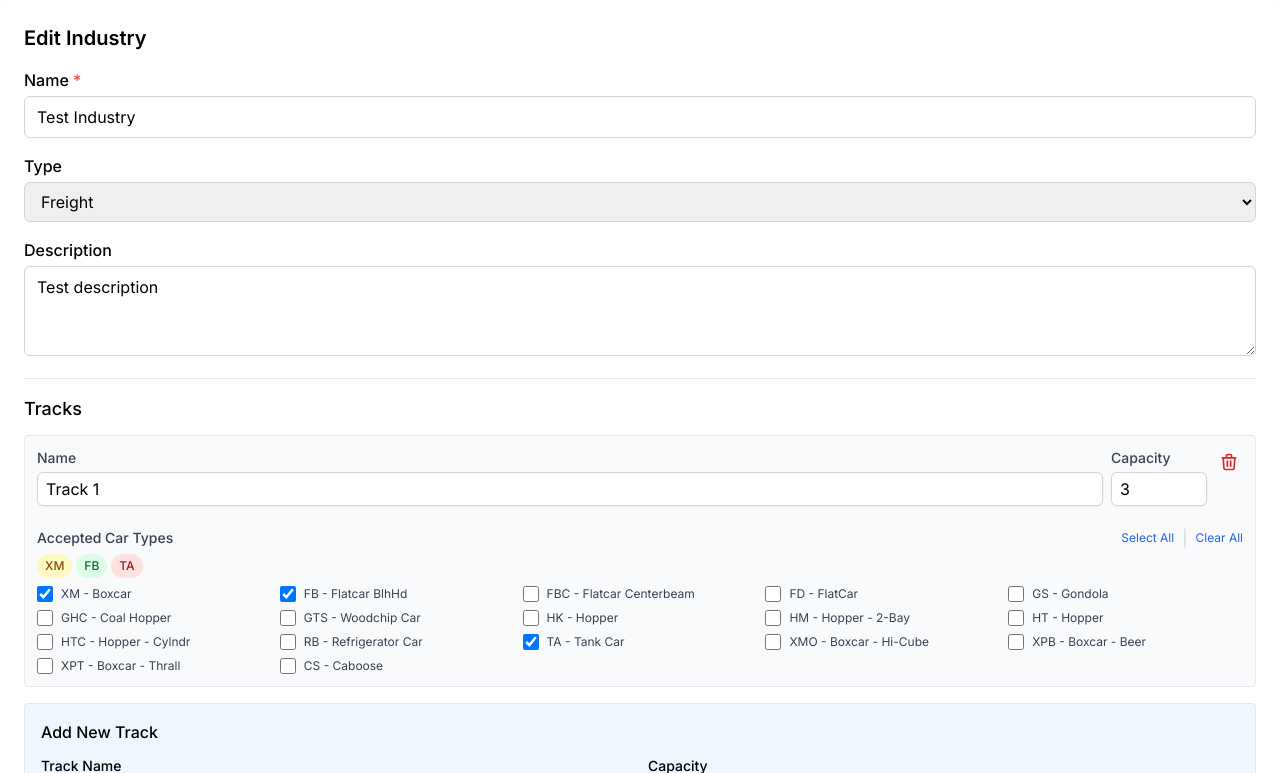
Scenario: EditIndustryForm › allows "Select All" and "Clear All" for car types
# Click "Clear All" to clear car types
Step 1. Click the button with test id "clear-all-0" → click(1219, 538), box [1196,526,1243,550]
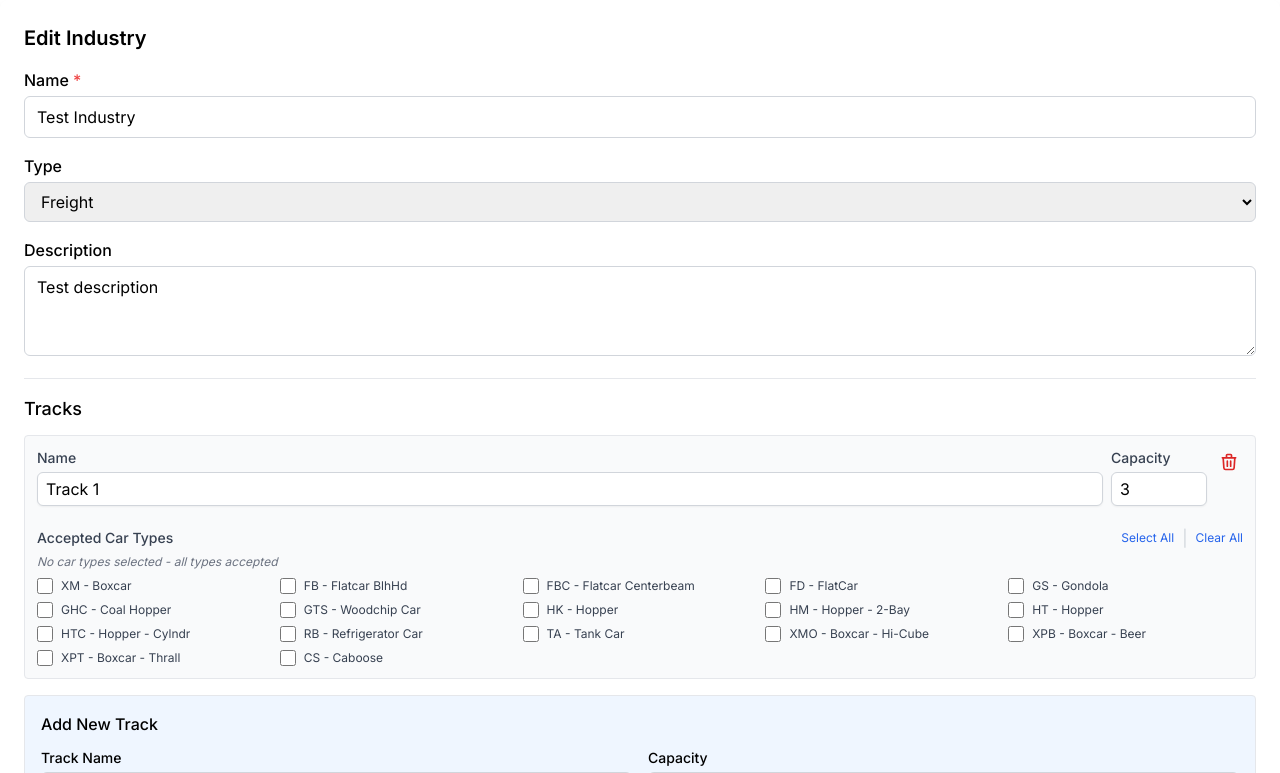
Check: the text "No car types selected - all types accepted" is shown, box [37,554,278,570]
# Now click "Select All" to select all car types
Step 2. Click the button with test id "select-all-0" → click(1148, 538), box [1121,526,1174,550]
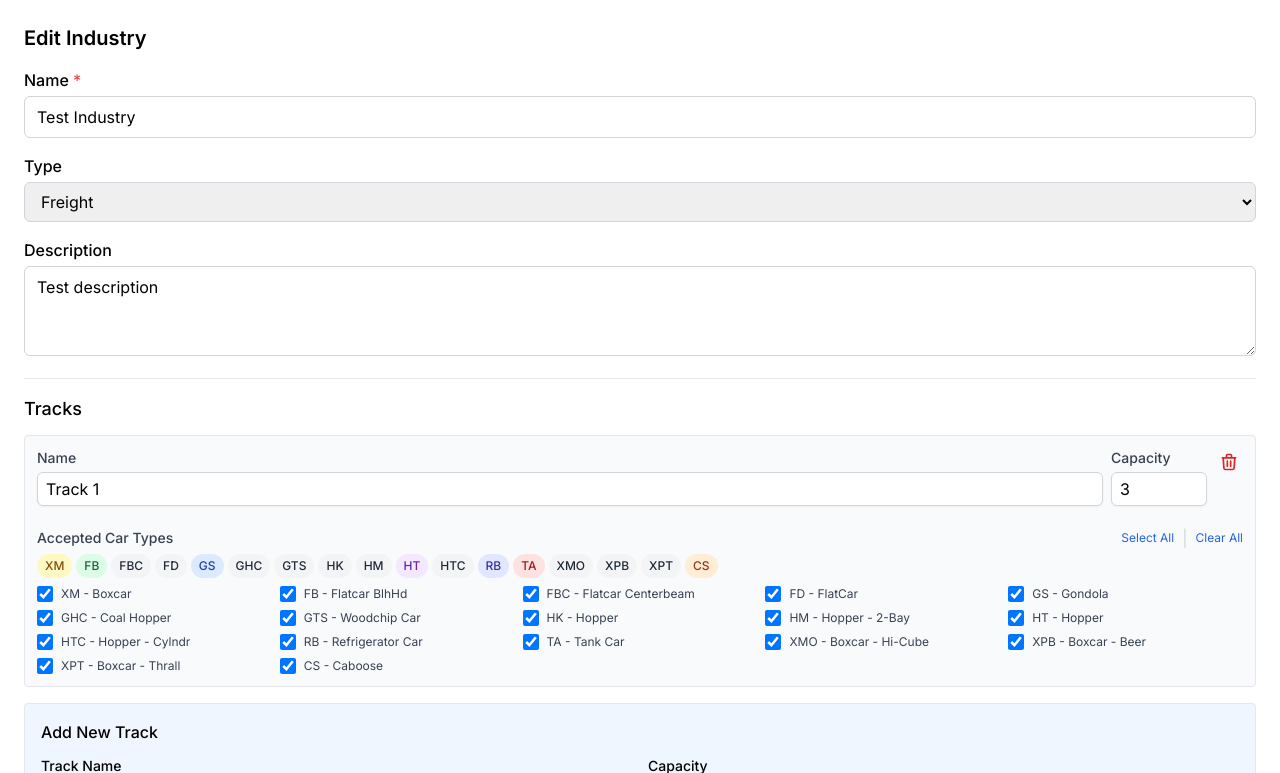
Check: the text "XM" is shown, box [37,554,72,578]
Check: the text "FB" is shown, box [76,554,107,578]
Check: the text "TA" is shown, box [513,554,544,578]
